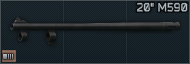M590A1 12ga 20 inch barrel: (0, 0, 190, 64)
